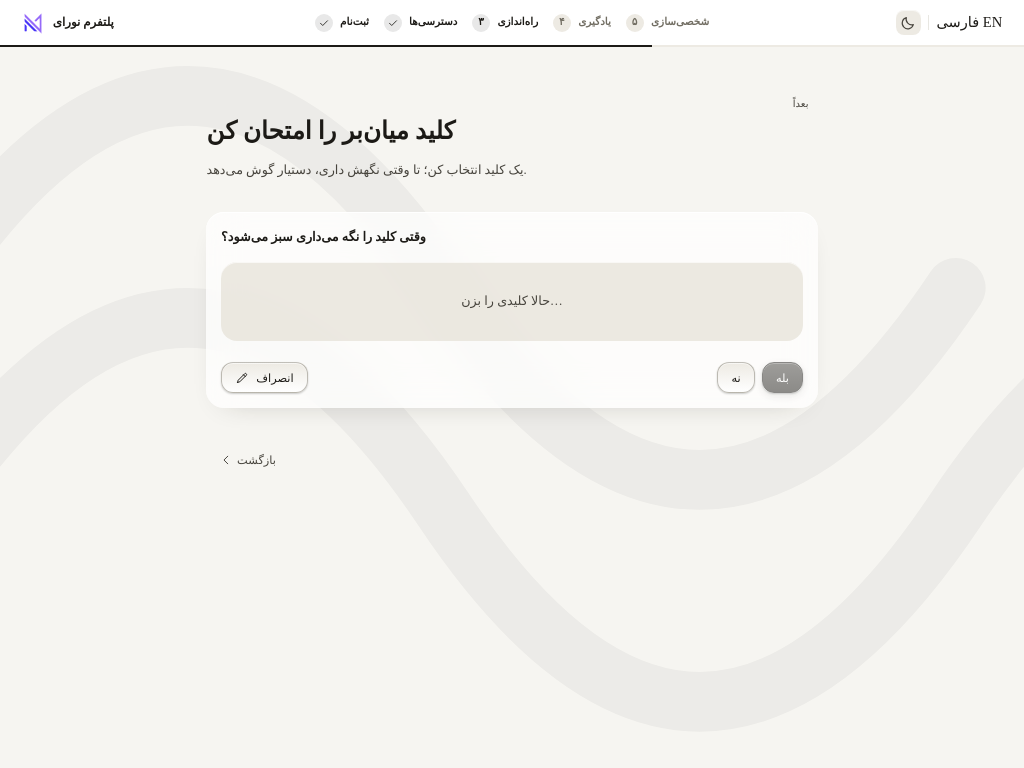
Test: the live controls › the key: a bindable key is bound and saved; a WRITING key is refused out loud
Expected: the heading "کلید میان‌بر را امتحان کن" is shown, [206, 117, 455, 144]
Expected: the message shows "حالا کلیدی را بزن", [461, 294, 563, 308]
Press a
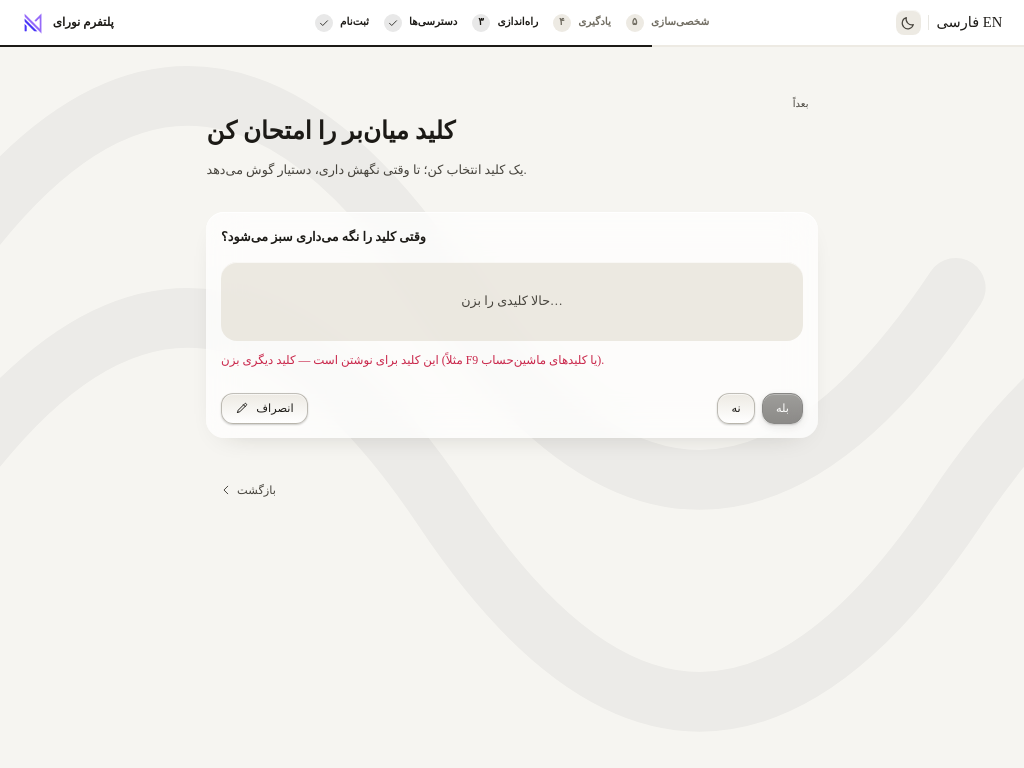
Expected: the message "این کلید برای نوشتن است — کلید دیگری بزن (مثلاً F9 یا کلیدهای ماشین‌حساب)." is shown, [221, 353, 604, 367]
Press F9
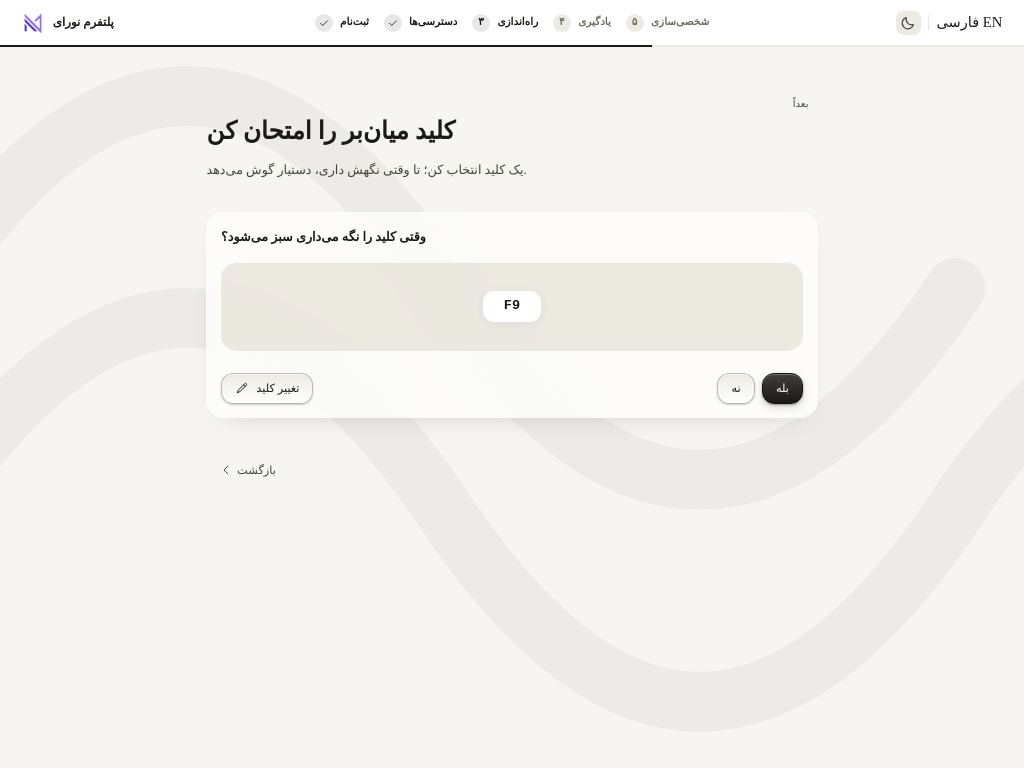
Expected: the text "F9" is shown, [483, 291, 541, 322]
Expected: the button "بله" is enabled
Click the button "بله" at (782, 388), box [762, 373, 803, 404]
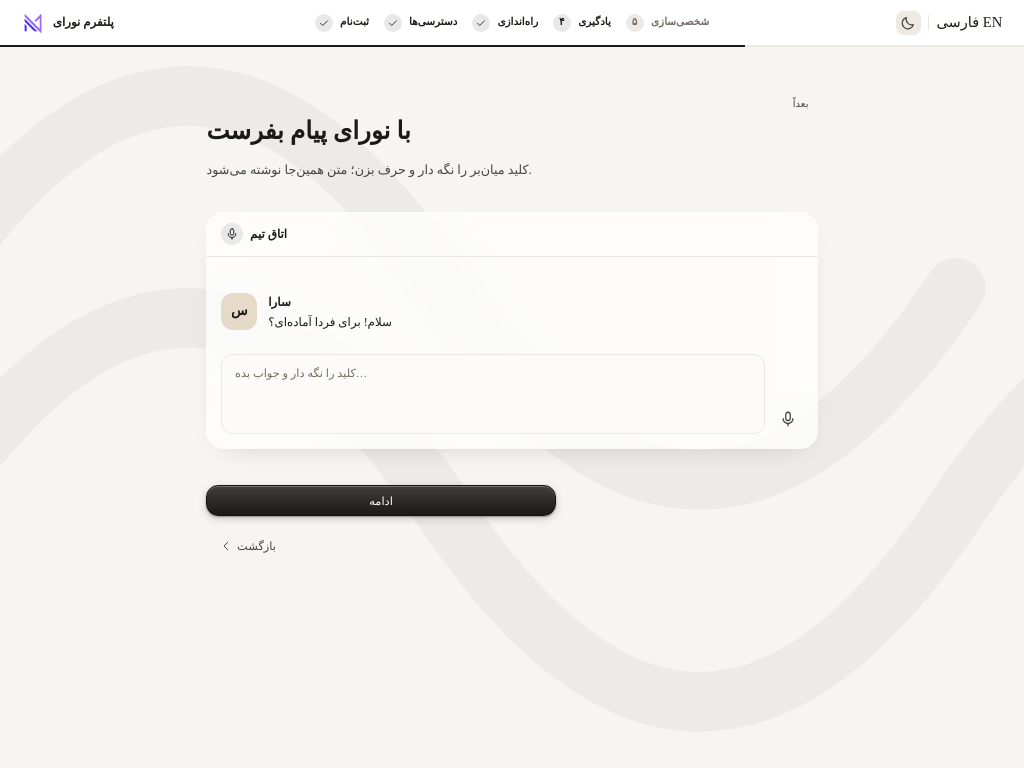
Expected: the heading reads "با نورای پیام بفرست", [206, 117, 411, 144]
